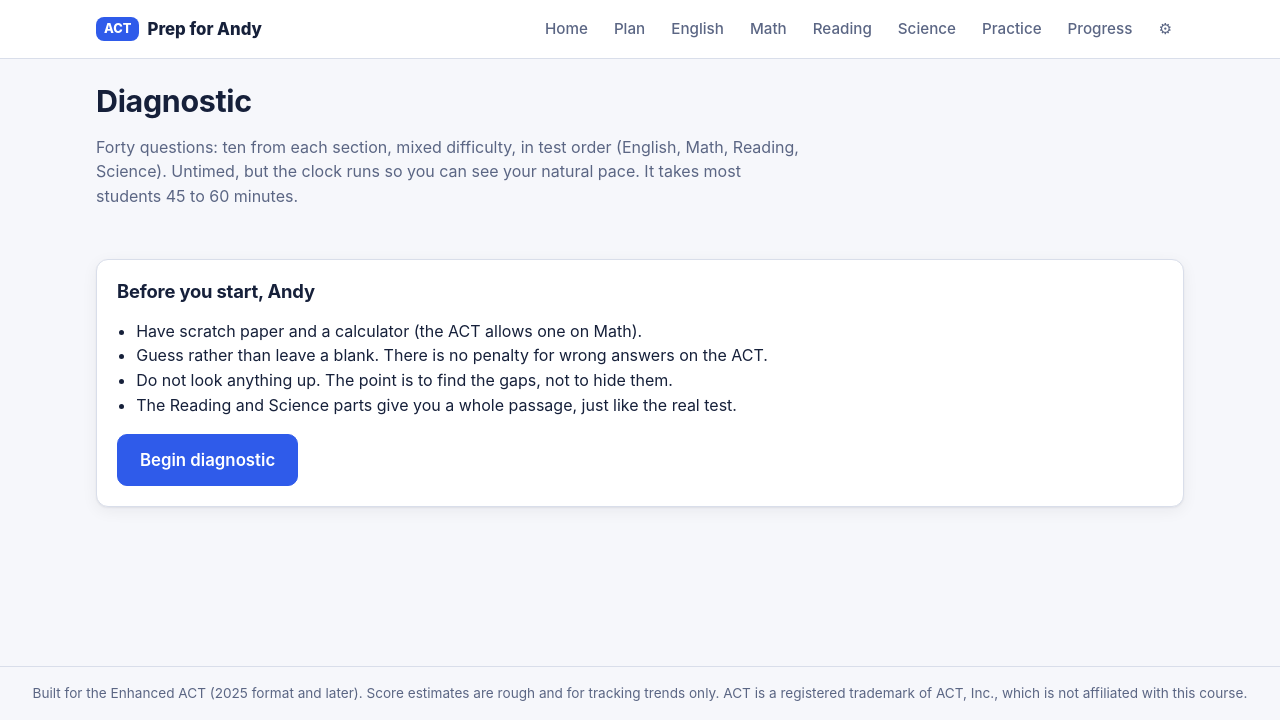
Test: quiz flow › diagnostic builds 40 questions in section order
The width and height of the screenshot is (1280, 720).
Click the button "Begin diagnostic". click: (208, 460)
box: [117,434,298,486]
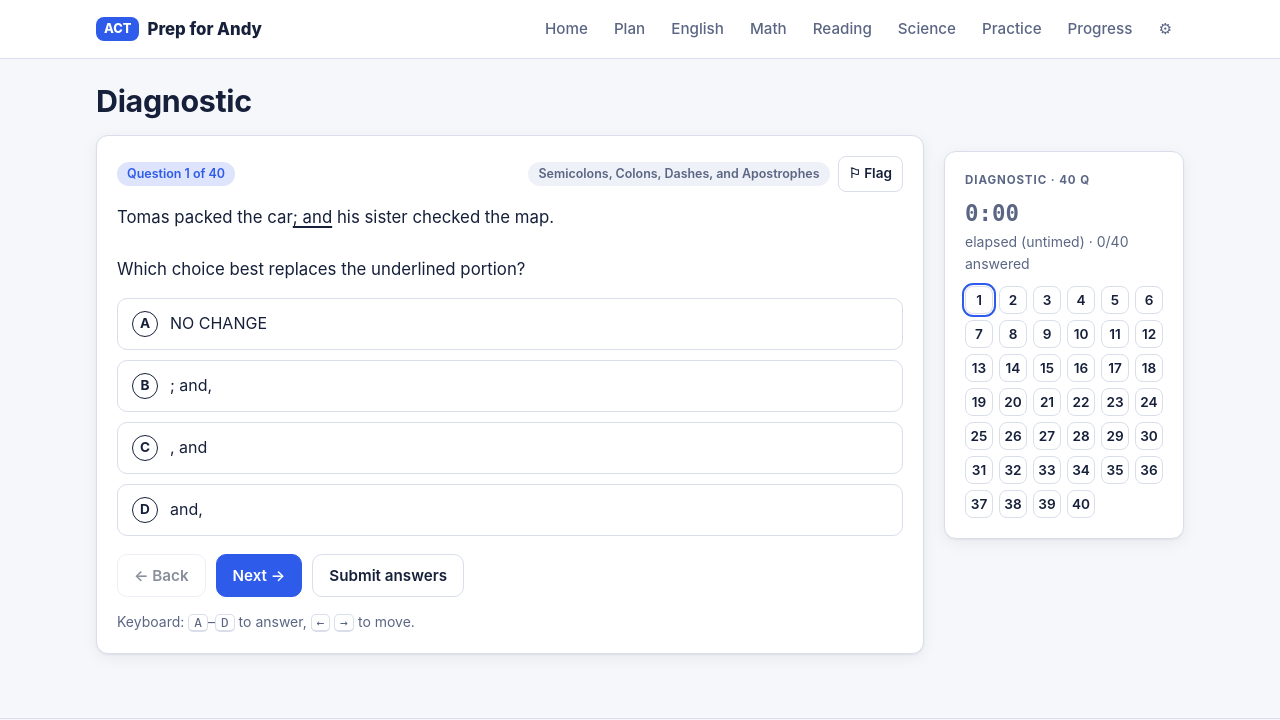
Result: the text "Question 1 of 40" is shown at [117,162,235,186]
Result: the button named "Go to question 40" is shown at [1067,490,1095,518]
